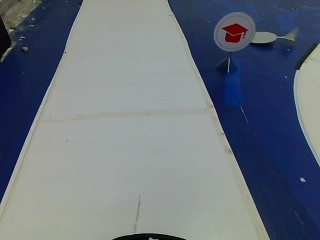school: (210, 8, 256, 54)
